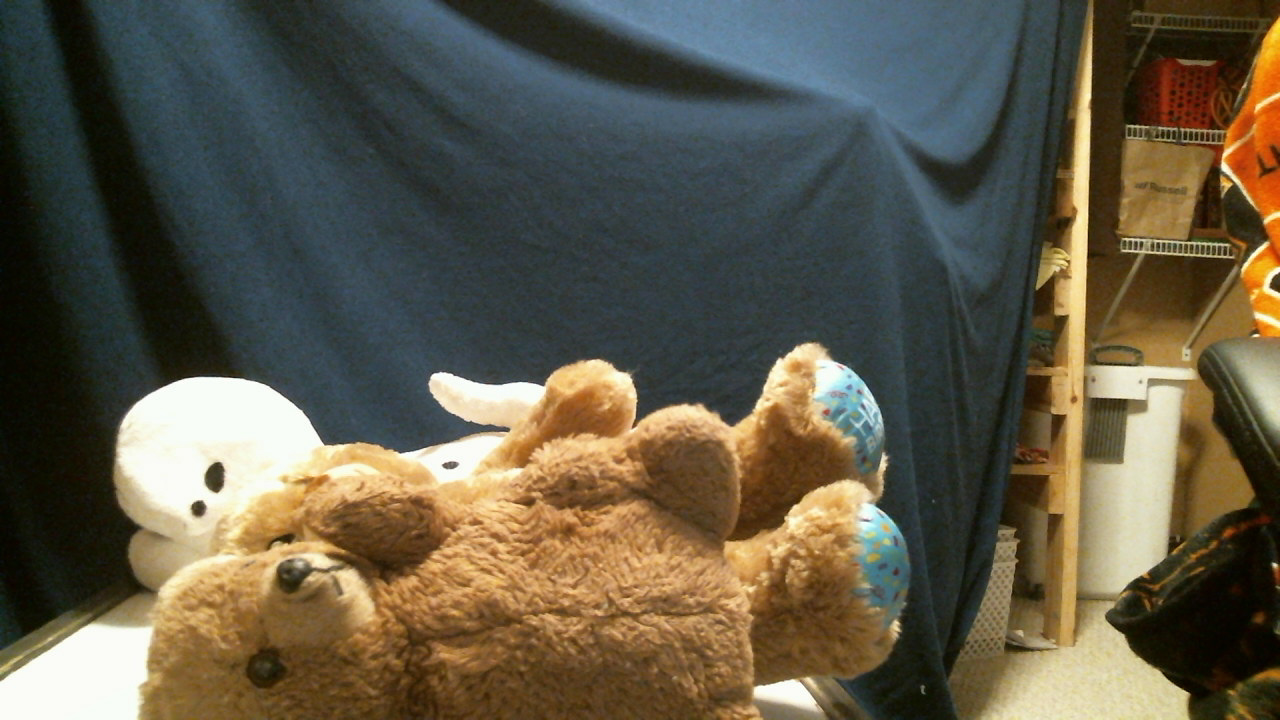Little_Mister_Bear: (220, 550, 374, 695)
